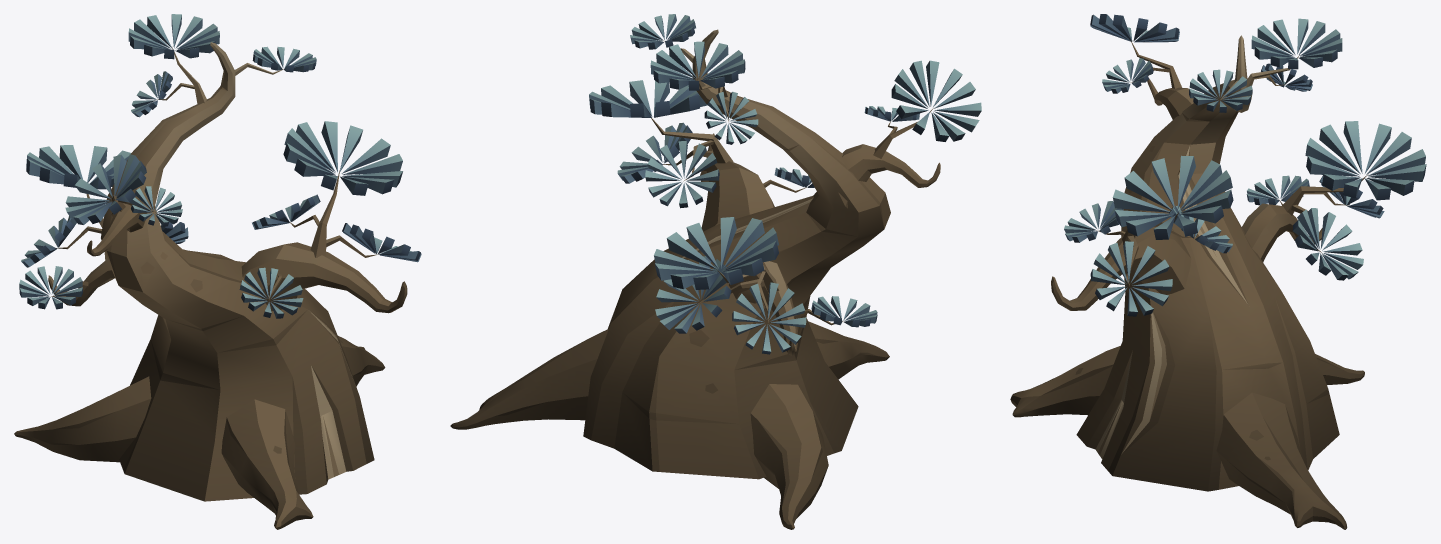
The model's file is ancient_tree_winter_2.glb.
The picture shows the model from 3 angles, left to right: view 1: azimuth 30°, elevation 25°; view 2: azimuth 150°, elevation 25°; view 3: azimuth 270°, elevation 25°; orthographic projection. The views are drawn at different scales.
Visible parts, largest first — view 1: ancient_tree_winter_2; view 2: ancient_tree_winter_2; view 3: ancient_tree_winter_2.
Part boxes in pixels (x1,y1,x2,y2): ancient_tree_winter_2: (14, 14, 421, 529); ancient_tree_winter_2: (450, 14, 981, 529); ancient_tree_winter_2: (1010, 14, 1426, 529).
Size of the model in its own units: 4.97 by 4.86 by 4.5.
Materials: 1 (1 with a texture image).
